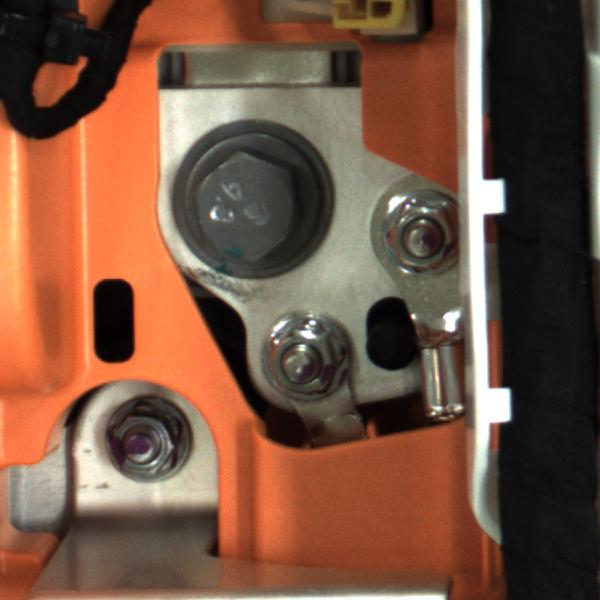nut_b: (169, 115, 336, 279)
screw_s: (248, 303, 357, 415), (101, 395, 200, 493), (378, 192, 459, 283)
